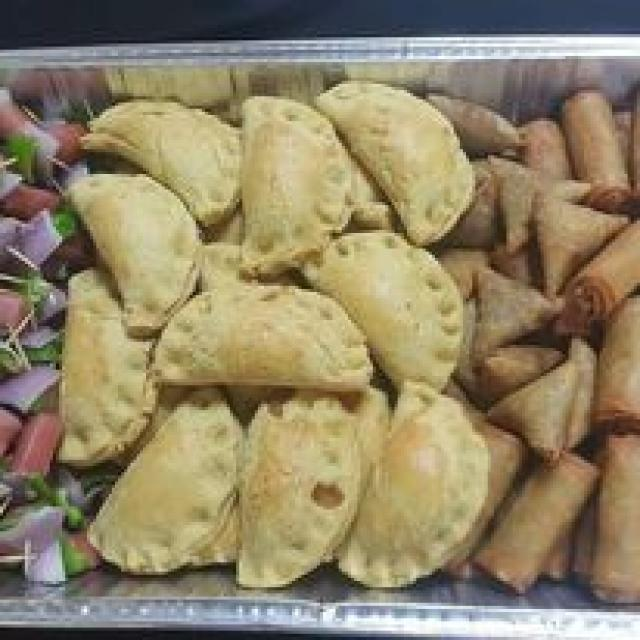Samosa: (472, 97, 559, 444)
Spring Rolls: (566, 76, 638, 604)
